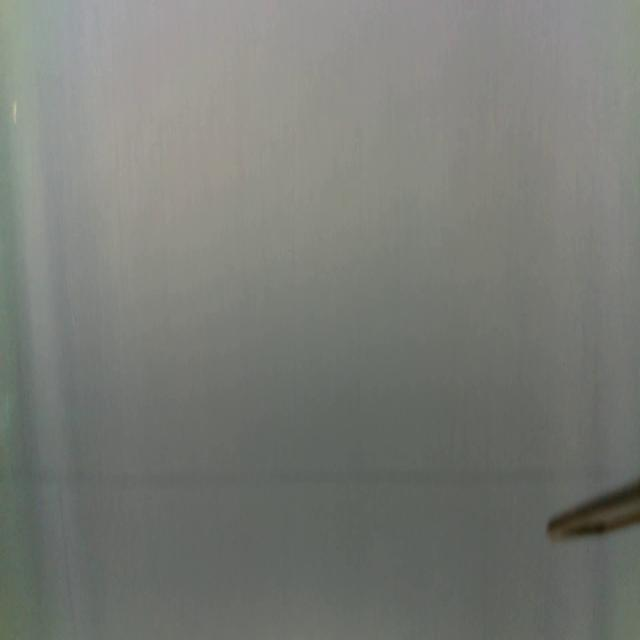color bleeding: (9, 451, 584, 500)
crease: (59, 481, 76, 640)
hole: (10, 99, 20, 129)
